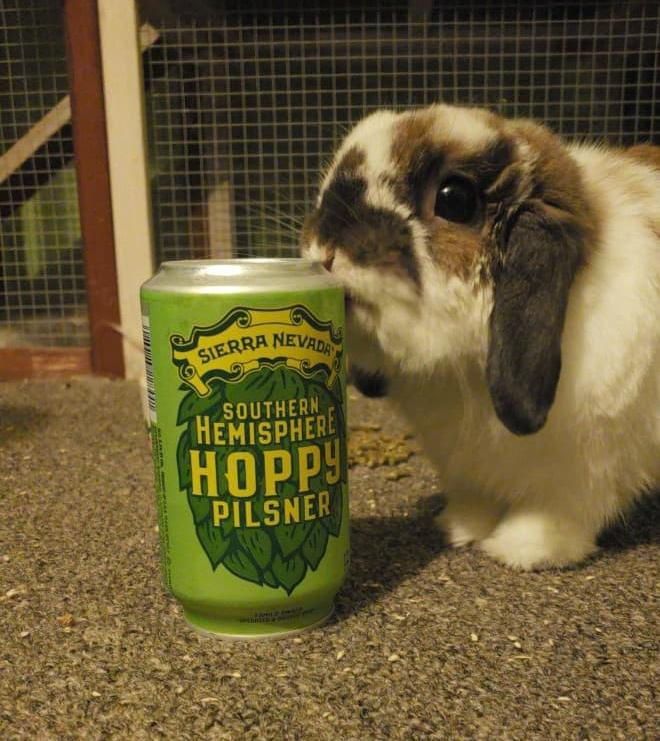bunny: (306, 85, 660, 567)
